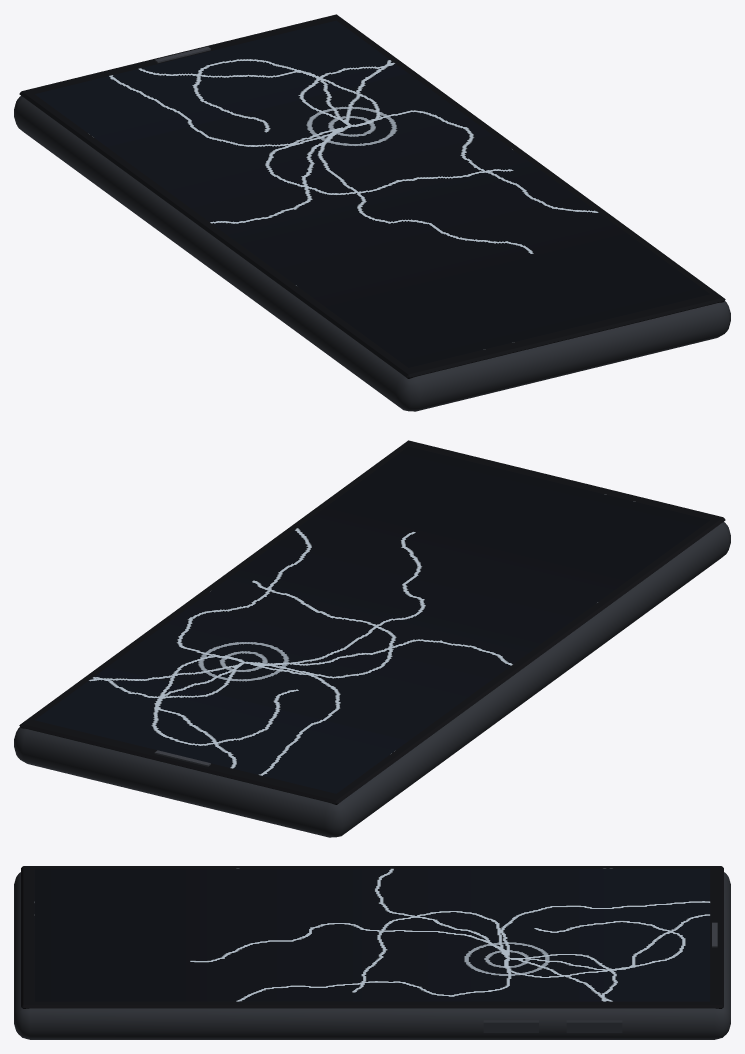
The model's file is cell_phone.glb.
The picture shows the model from 3 angles, top to bottom: view 1: azimuth 30°, elevation 25°; view 2: azimuth 150°, elevation 25°; view 3: azimuth 270°, elevation 25°; orthographic projection. The views are drawn at different scales.
Parts seen in each view (by area): view 1: cell_phone; view 2: cell_phone; view 3: cell_phone.
Part boxes in pixels (left/top/right/bottom): cell_phone: left=14, top=14, right=730, bottom=411; cell_phone: left=14, top=440, right=730, bottom=837; cell_phone: left=14, top=866, right=730, bottom=1039.
Bounding box in the file's own units: 0.0783 × 0.00929 × 0.16.
Materials: 4 (1 with a texture image).
